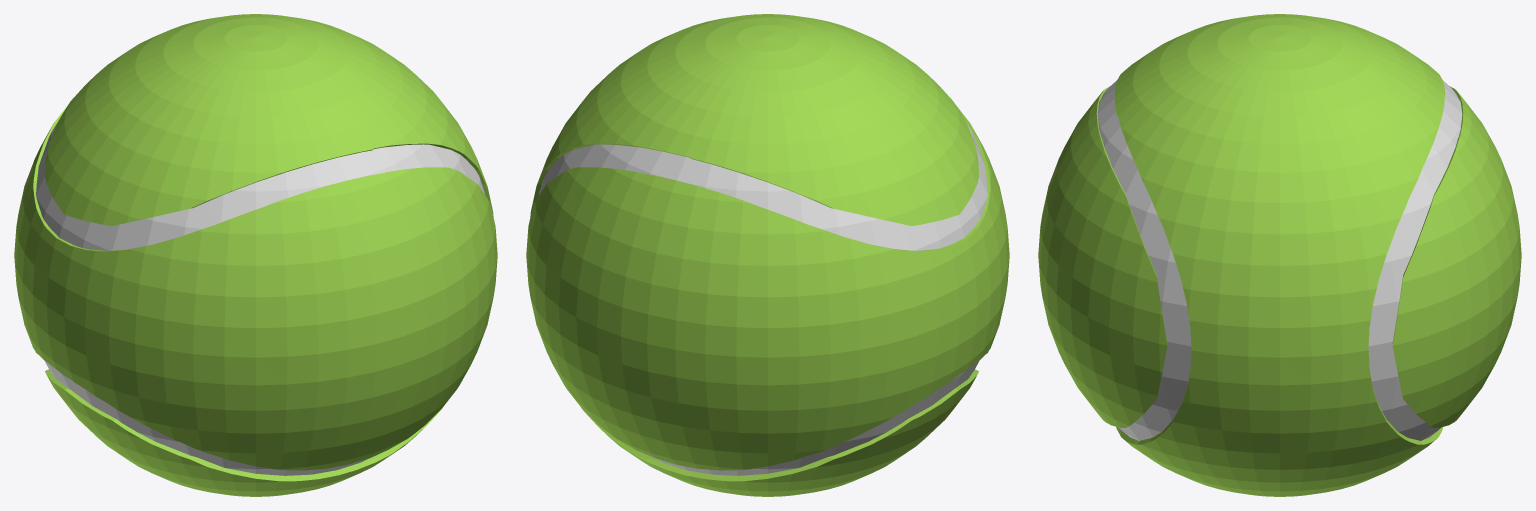
The model's file is tennisBall.glb.
3 renders of one model, left to right at view 1: azimuth 30°, elevation 25°; view 2: azimuth 150°, elevation 25°; view 3: azimuth 270°, elevation 25°, orthographic.
Visible parts, largest first — view 1: Mesh_Mesh_head_geo001_lambert2SG001; view 2: Mesh_Mesh_head_geo001_lambert2SG001; view 3: Mesh_Mesh_head_geo001_lambert2SG001.
Part boxes in pixels (x1=…): Mesh_Mesh_head_geo001_lambert2SG001: x1=14, y1=14, x2=497, y2=496; Mesh_Mesh_head_geo001_lambert2SG001: x1=526, y1=14, x2=1009, y2=496; Mesh_Mesh_head_geo001_lambert2SG001: x1=1038, y1=14, x2=1521, y2=496.
Bounding box in the file's own units: 35.5 × 35.5 × 35.5.
